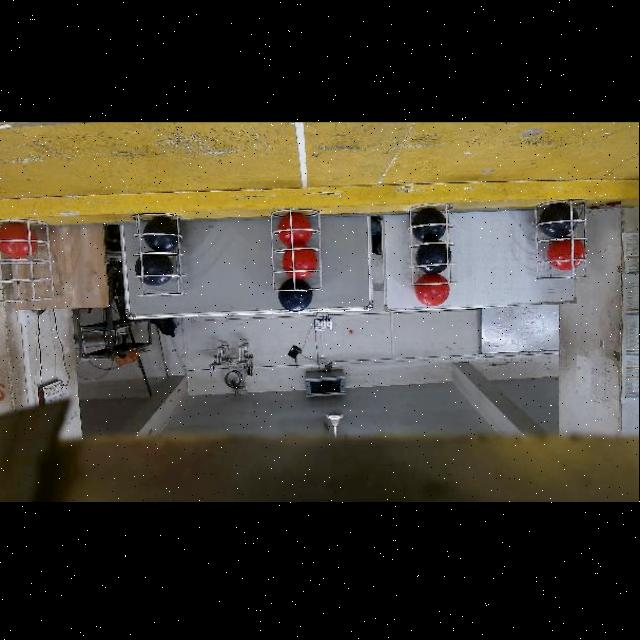P: (539, 203, 579, 239), (137, 255, 176, 288), (142, 217, 178, 252), (413, 209, 447, 243), (278, 279, 312, 313), (417, 244, 452, 276)
R: (0, 223, 38, 259), (547, 240, 587, 272), (415, 275, 451, 308), (278, 214, 312, 247), (282, 250, 318, 281)
S: (530, 202, 588, 284), (269, 210, 325, 294), (411, 206, 464, 294), (131, 226, 187, 300), (1, 228, 52, 304)
